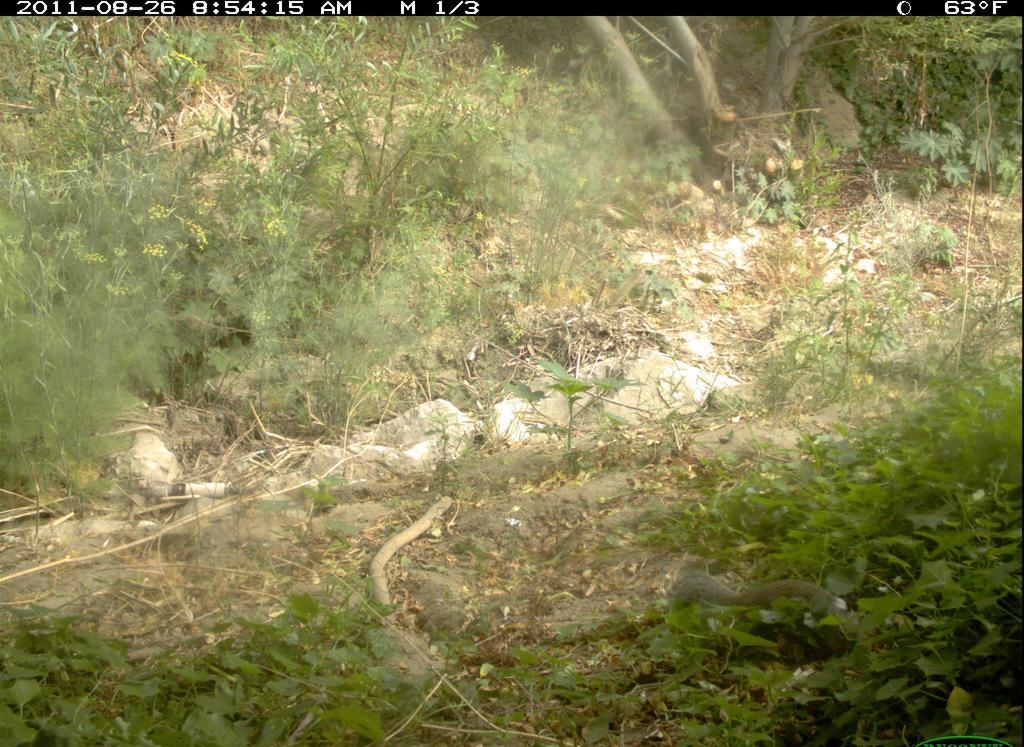squirrel: (665, 545, 858, 651)
